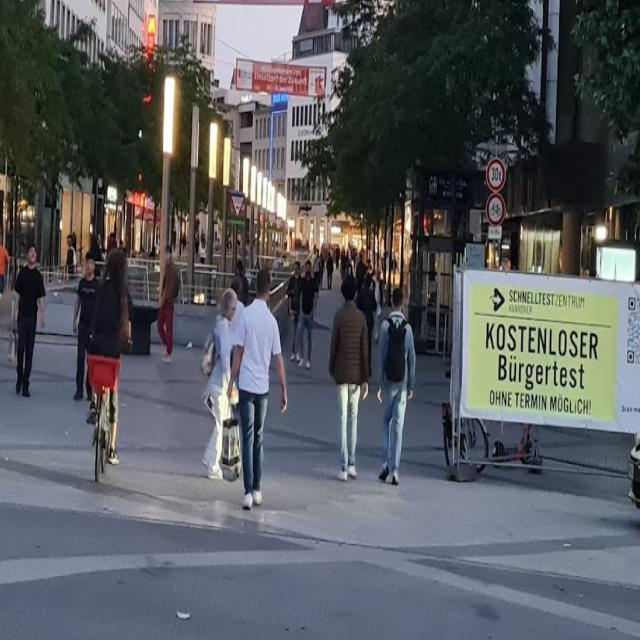Werbetafel frei: (458, 273, 640, 434)
